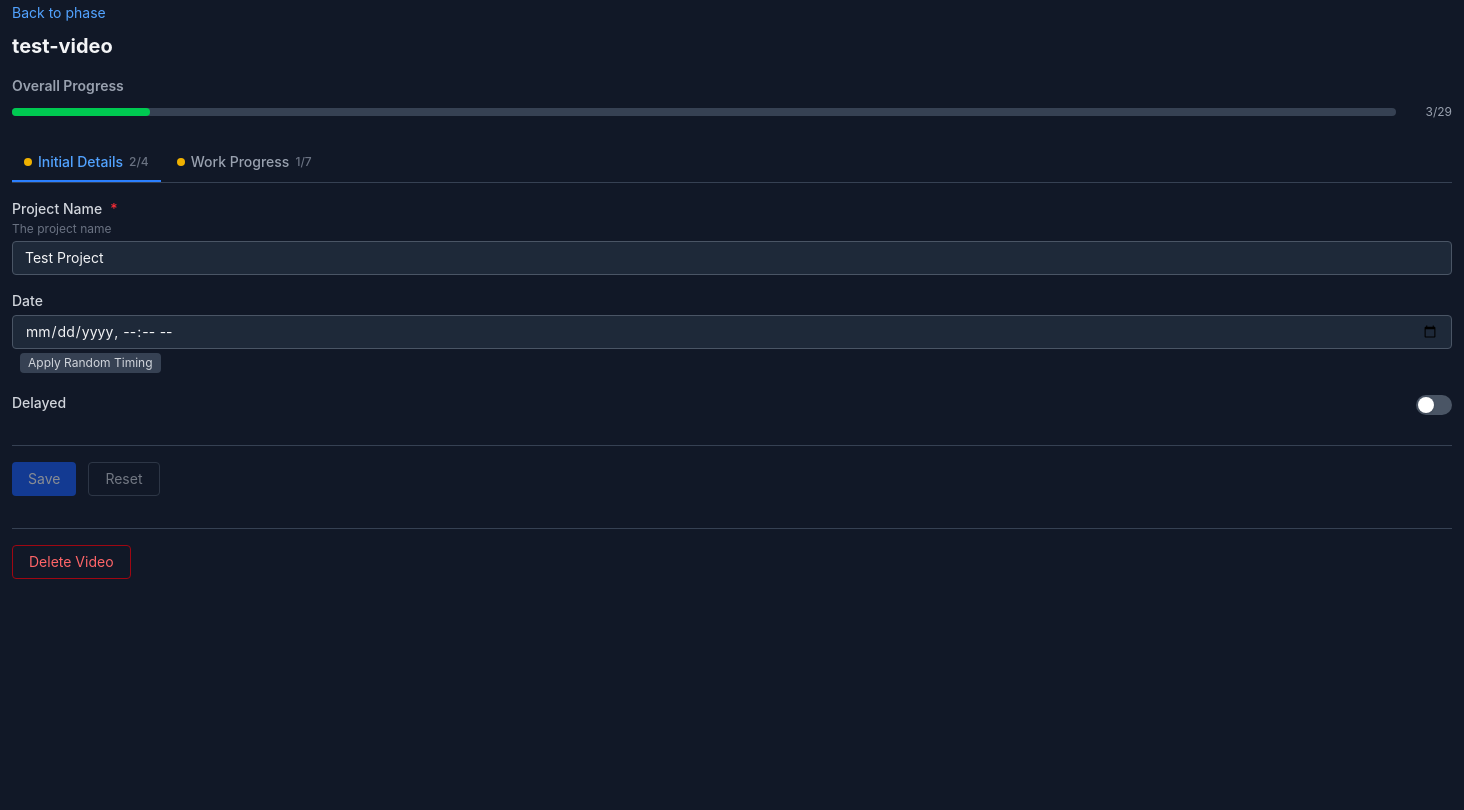
Scenario: VideoDetail › shows delete button with confirmation
The image size is (1464, 810).
Expected: the heading "test-video" is shown, [12,34,113,58]
Click the button "Delete Video".
click(71, 562)  # box [12,545,130,579]
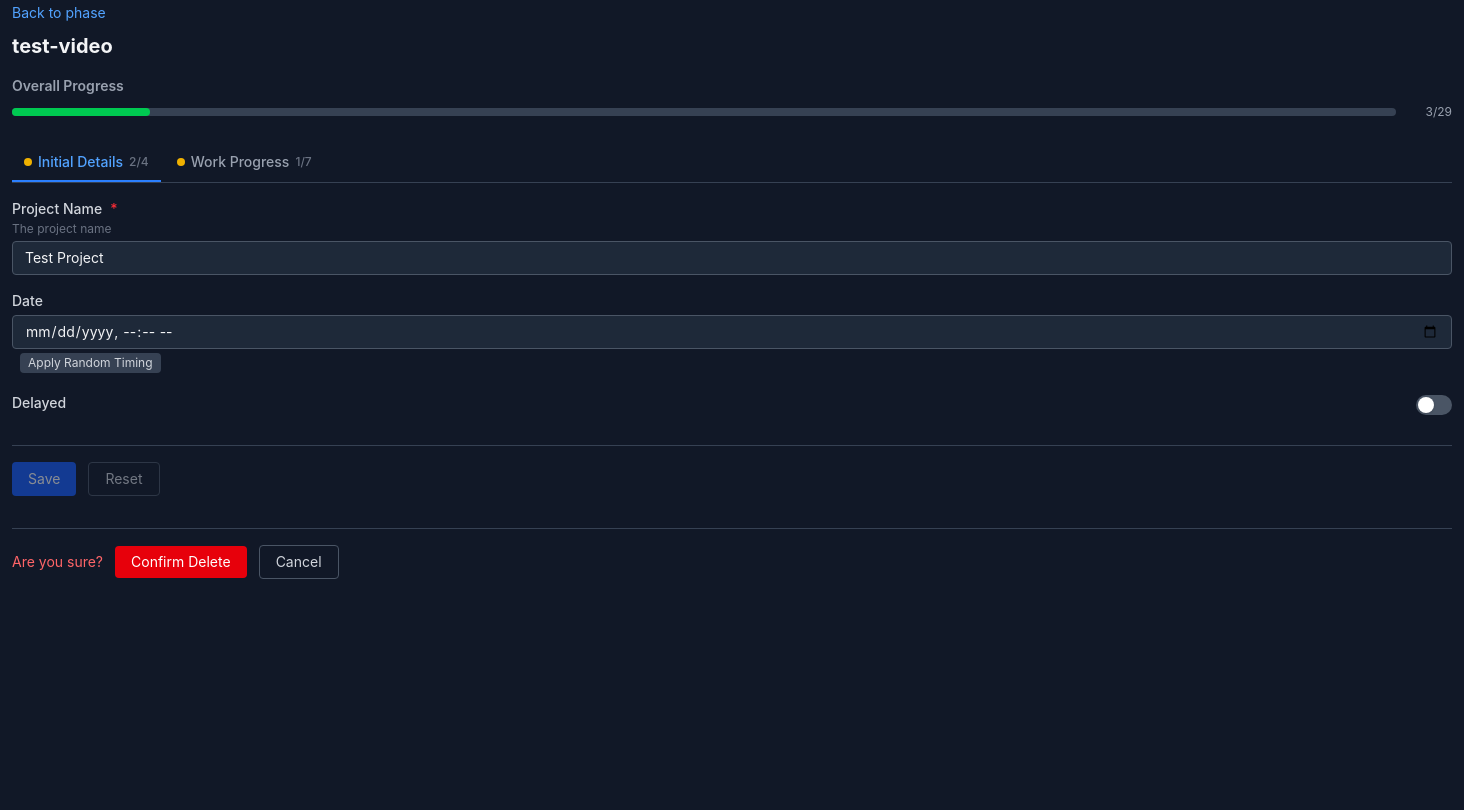
Now the text "Are you sure?" is shown, box [12,552,103,572]
Now the button "Confirm Delete" is shown, box [115,546,247,578]
